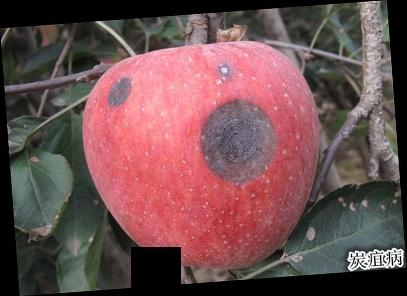rotten apple: (85, 43, 328, 272)
